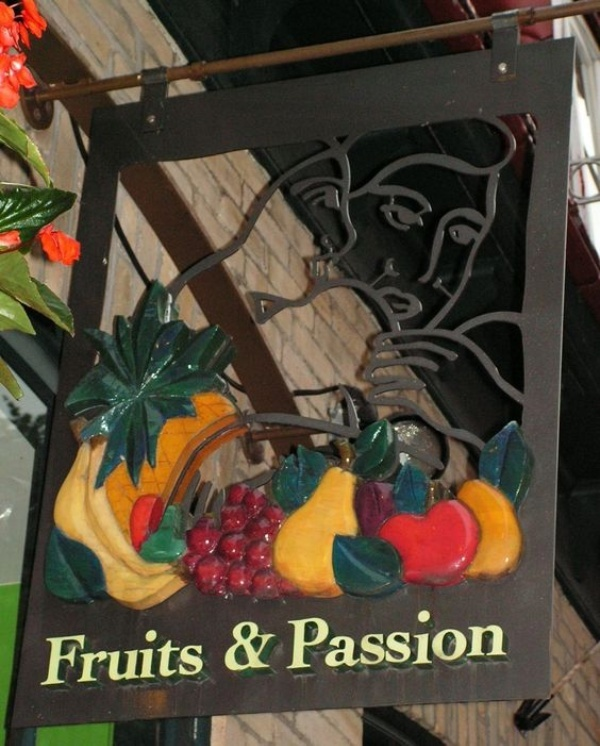text: (289, 602, 304, 671), (305, 602, 320, 671), (321, 602, 336, 671), (337, 602, 352, 671), (353, 602, 368, 671), (369, 602, 384, 671), (385, 602, 400, 671), (401, 602, 416, 671), (417, 602, 432, 671), (433, 602, 448, 671), (449, 602, 464, 671), (465, 602, 480, 671), (481, 602, 496, 671), (49, 623, 64, 687), (65, 623, 80, 687), (81, 623, 96, 687), (97, 623, 112, 687), (113, 623, 128, 687), (129, 623, 144, 687), (145, 623, 160, 687), (161, 623, 176, 687), (177, 623, 192, 687), (193, 623, 206, 687), (241, 621, 256, 673), (257, 621, 272, 673), (497, 602, 508, 671), (226, 621, 240, 673), (45, 623, 48, 687), (273, 621, 276, 673)
